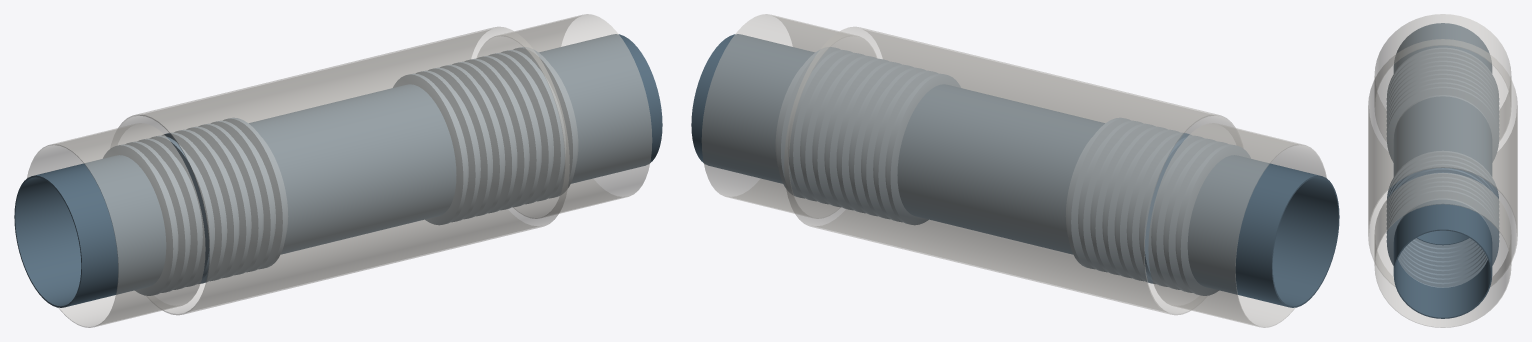
Rendered from 2ppu-dn600-L3118-D630-k-o957.glb.
The picture shows the model from 3 angles, left to right: view 1: azimuth 30°, elevation 25°; view 2: azimuth 150°, elevation 25°; view 3: azimuth 270°, elevation 25°; orthographic projection. The views are drawn at different scales.
Parts seen in each view (by area): view 1: uslovno_kozhuh_ppu, prokladka_silfon_2, prokladka_silfon_1, uslovno_obolochka_l, patrubok_1, uslovno_obolochka_r, patrubok_3, patrubok_4, patrubok_2; view 2: uslovno_kozhuh_ppu, prokladka_silfon_2, prokladka_silfon_1, uslovno_obolochka_l, patrubok_1, uslovno_obolochka_r, patrubok_3, patrubok_4, patrubok_2; view 3: uslovno_kozhuh_ppu, prokladka_silfon_2, uslovno_obolochka_r, patrubok_4, prokladka_silfon_1, uslovno_obolochka_l, patrubok_2, patrubok_3, patrubok_1.
Boxes of the visible parts, <box> form: uslovno_kozhuh_ppu: <box>117,26,569,315</box>; prokladka_silfon_2: <box>393,47,578,225</box>; prokladka_silfon_1: <box>103,117,288,295</box>; uslovno_obolochka_l: <box>27,123,205,327</box>; patrubok_1: <box>14,155,166,307</box>; uslovno_obolochka_r: <box>477,14,652,218</box>; patrubok_3: <box>324,84,456,235</box>; patrubok_4: <box>539,34,662,183</box>; patrubok_2: <box>249,105,372,254</box>; uslovno_kozhuh_ppu: <box>784,26,1236,315</box>; prokladka_silfon_2: <box>775,47,960,225</box>; prokladka_silfon_1: <box>1065,117,1250,295</box>; uslovno_obolochka_l: <box>1148,123,1326,327</box>; patrubok_1: <box>1187,155,1339,307</box>; uslovno_obolochka_r: <box>701,14,876,218</box>; patrubok_3: <box>897,84,1029,235</box>; patrubok_4: <box>691,34,814,183</box>; patrubok_2: <box>981,105,1104,254</box>; uslovno_kozhuh_ppu: <box>1368,39,1517,286</box>; prokladka_silfon_2: <box>1386,150,1499,287</box>; uslovno_obolochka_r: <box>1374,173,1511,327</box>; patrubok_4: <box>1393,199,1492,318</box>; prokladka_silfon_1: <box>1386,47,1499,162</box>; uslovno_obolochka_l: <box>1374,14,1511,141</box>; patrubok_2: <box>1393,96,1492,167</box>; patrubok_3: <box>1393,126,1492,245</box>; patrubok_1: <box>1393,23,1492,73</box>.
Bounding box in the file's own units: 3118 × 957 × 957.
